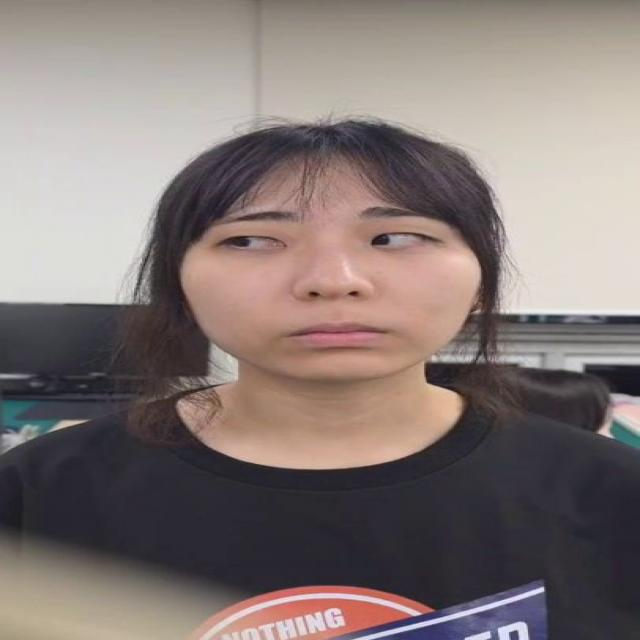eyes: (189, 220, 457, 261)
face: (181, 123, 494, 372)
iris_right: (359, 225, 403, 256), (222, 234, 254, 255)
